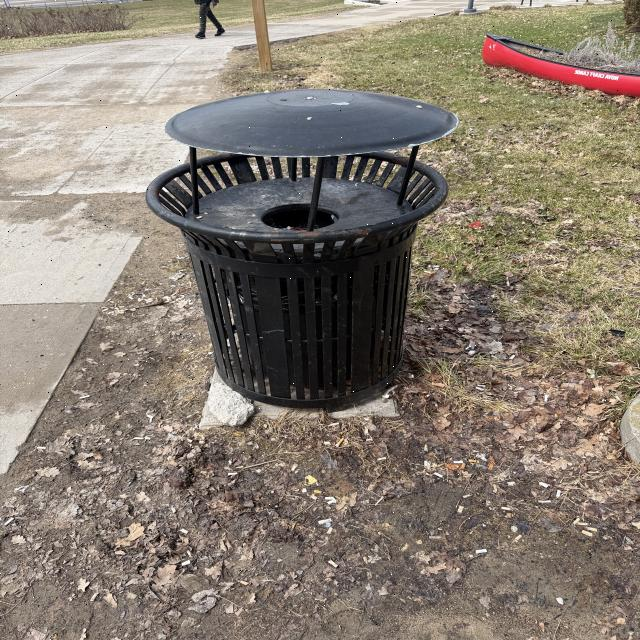Dustbin: (140, 95, 458, 412)
